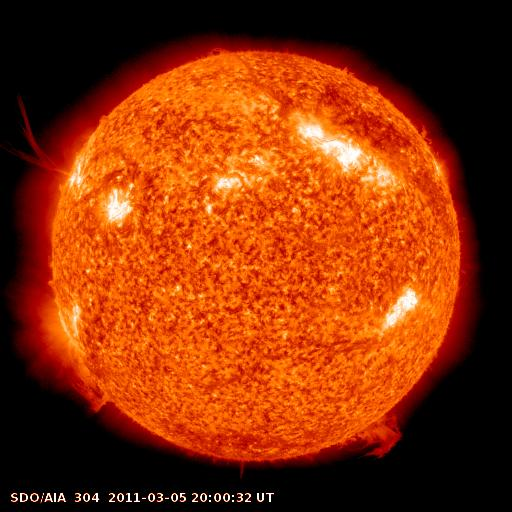prominence: (1, 90, 83, 190), (326, 399, 420, 467), (52, 351, 129, 420), (405, 109, 444, 154), (193, 37, 247, 69)
